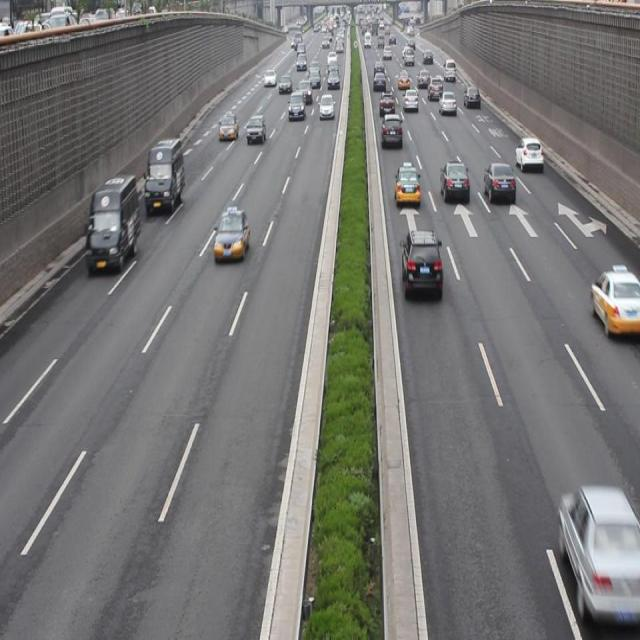car: (556, 484, 640, 625), (588, 265, 640, 335), (401, 227, 444, 299), (213, 208, 249, 260), (483, 160, 516, 203), (440, 158, 470, 202), (394, 162, 420, 208), (514, 134, 543, 172), (245, 114, 267, 144), (287, 90, 306, 122), (219, 112, 239, 140)
truck: (86, 173, 140, 276), (144, 139, 185, 213), (380, 110, 403, 150)
